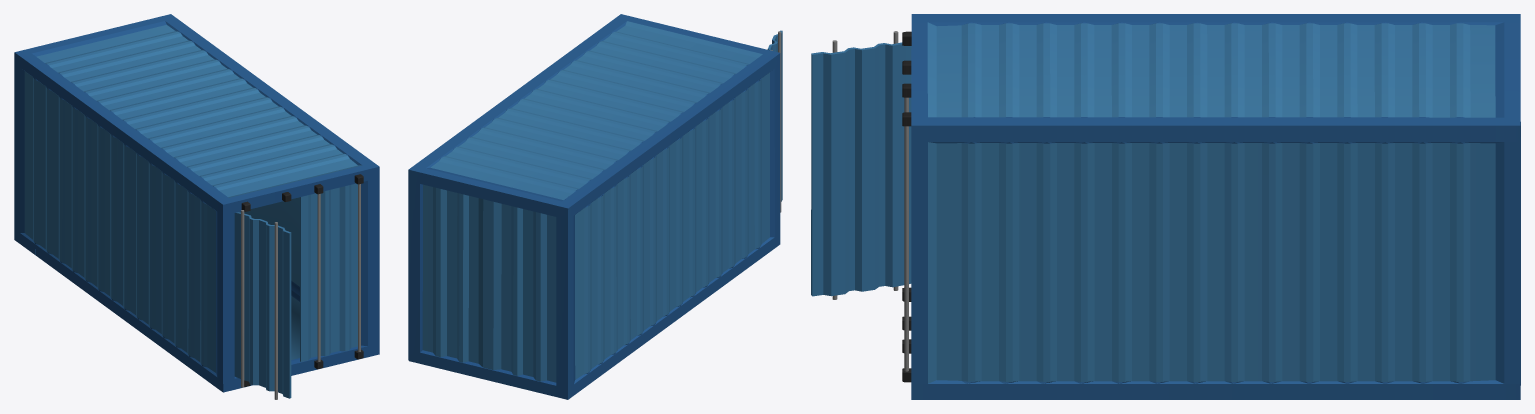
The model's file is Small Blue Shipping Container Open.fbx.
The picture shows the model from 3 angles, left to right: view 1: azimuth 30°, elevation 25°; view 2: azimuth 150°, elevation 25°; view 3: azimuth 270°, elevation 25°; orthographic projection. The views are drawn at different scales.
Visible parts, largest first — view 1: Small Blue Shipping Container Open; view 2: Small Blue Shipping Container Open; view 3: Small Blue Shipping Container Open.
Boxes of the visible parts, left/top/right/bottom form: Small Blue Shipping Container Open: left=14, top=14, right=379, bottom=399; Small Blue Shipping Container Open: left=408, top=14, right=782, bottom=399; Small Blue Shipping Container Open: left=811, top=14, right=1520, bottom=399.
Bounding box in the file's own units: 1062 × 2490 × 928.
1 material, 1 textured.
